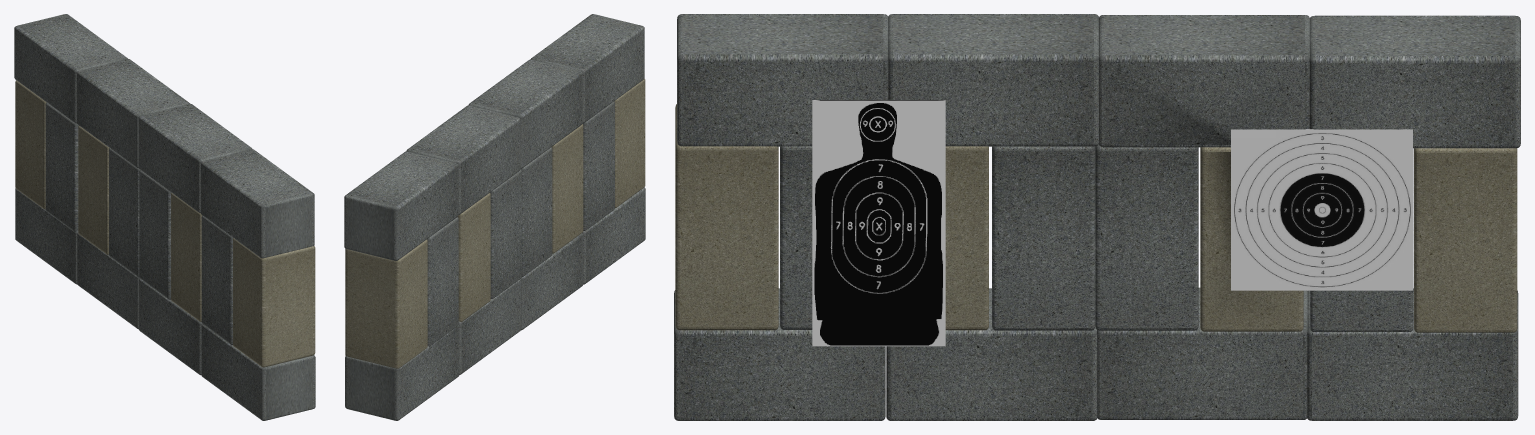
The model's file is scianka_strzelnica.FBX.
3 views of the same model, side by side, from view 1: azimuth 30°, elevation 25°; view 2: azimuth 150°, elevation 25°; view 3: azimuth 270°, elevation 25° (orthographic). The views are drawn at different scales.
Parts seen in each view (by area): view 1: Box186; view 2: Box186; view 3: Box186.
Part boxes in pixels (left/top/right/bottom): Box186: left=14, top=14, right=315, bottom=420; Box186: left=344, top=14, right=645, bottom=420; Box186: left=674, top=14, right=1520, bottom=420.
Size of the model in its own units: 2.24 by 8.41 by 17.66.
Materials: 4 (4 with a texture image).
